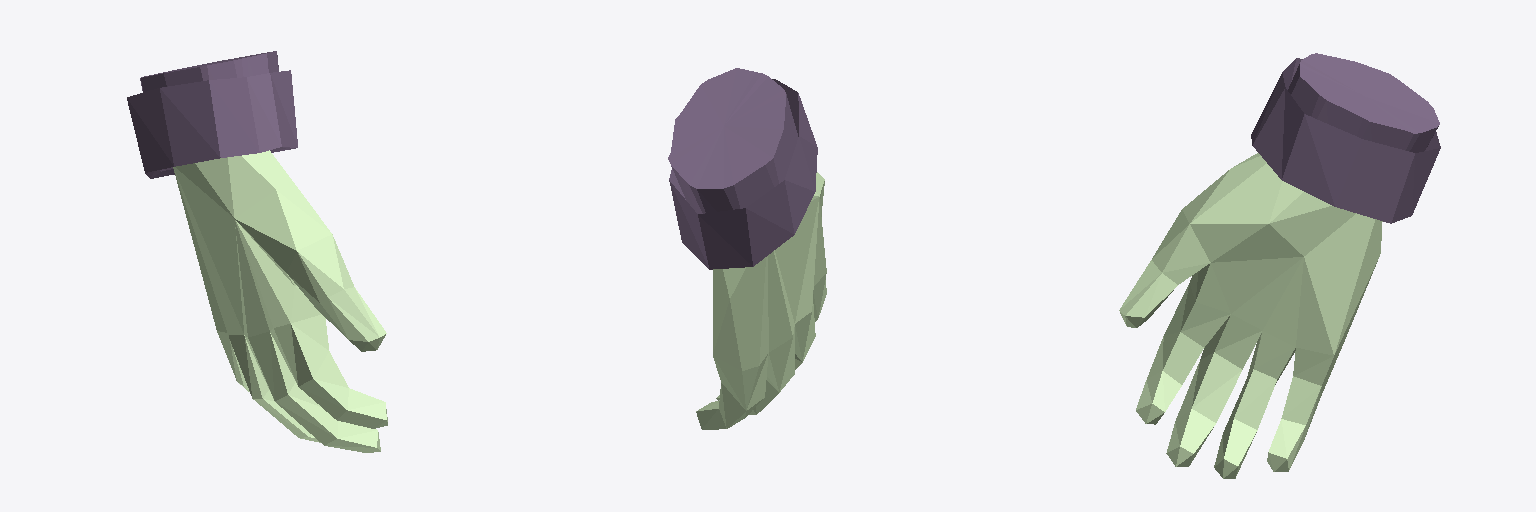
3 views of the same model, side by side, from view 1: azimuth 30°, elevation 25°; view 2: azimuth 150°, elevation 25°; view 3: azimuth 270°, elevation 25° (orthographic).
Parts seen in each view (by area): view 1: scientist_fem_scientist_body_female_ref; view 2: scientist_fem_scientist_body_female_ref; view 3: scientist_fem_scientist_body_female_ref.
Part boxes in pixels (x1,y1,x2,y2): scientist_fem_scientist_body_female_ref: (127, 51, 387, 452); scientist_fem_scientist_body_female_ref: (668, 68, 826, 429); scientist_fem_scientist_body_female_ref: (1119, 53, 1440, 478).
Bounding box in the file's own units: 3.5 × 8.74 × 6.67.